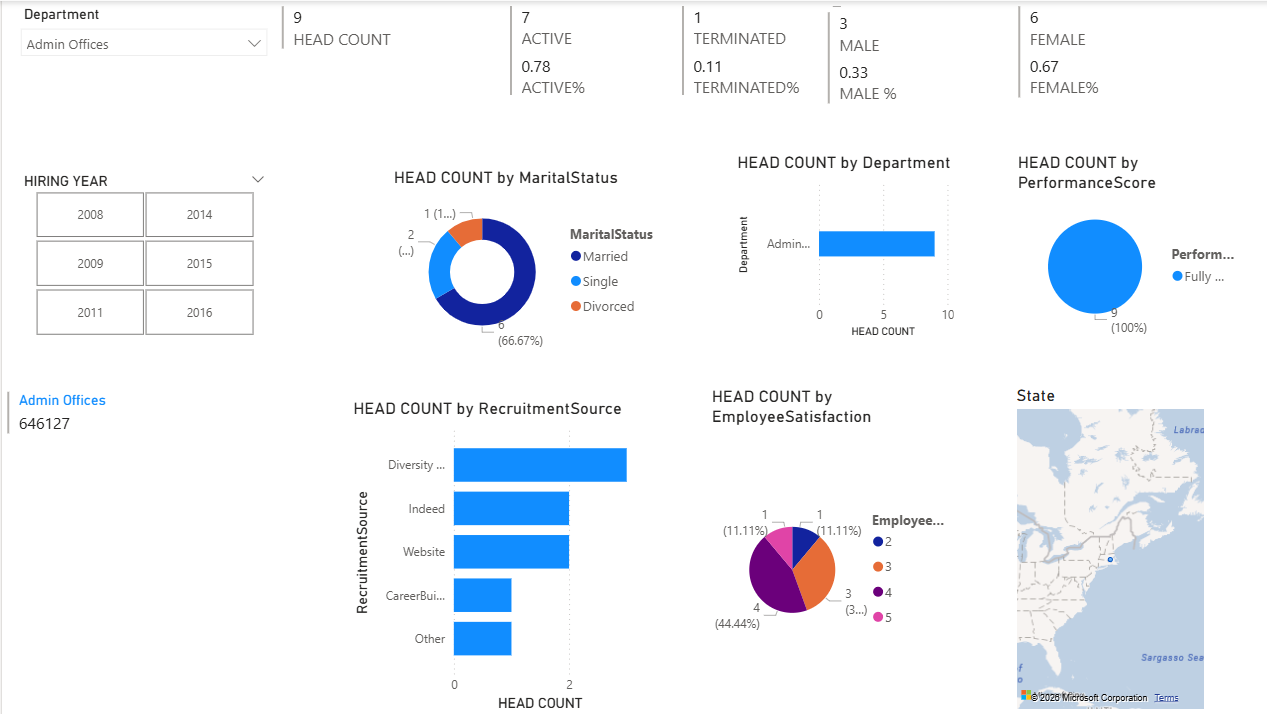

Layout of this report page (visuals, bound fields, positions):
{"tool":"powerbi","page":{"name":"Page 1","canvas":[1280,720],"ordinal":0},"visuals":[{"type":"slicer","fields":{"Values":["HR Data.Department"]},"box":[9.4,0,268.3,98.3],"z":0},{"type":"slicer","fields":{"Values":["HR Data.HIRING YEAR"]},"box":[9.4,168.2,268.3,175.7],"z":1},{"type":"multiRowCard","fields":{"Values":["HR Data.HEAD COUNT"]},"box":[277.8,0,268.3,132.3],"z":2},{"type":"multiRowCard","fields":{"Values":["HR Data.ACTIVE","HR Data.ACTIVE%"]},"box":[506.9,0,203.9,99.1],"z":3},{"type":"multiRowCard","fields":{"Values":["HR Data.TERMINATED","HR Data.TERMINATED%"]},"box":[680.8,0,170.2,99.1],"z":4},{"type":"multiRowCard","fields":{"Values":["HR Data.MALE","HR Data.MALE %"]},"box":[827.7,5.7,228.7,107.7],"z":5},{"type":"multiRowCard","fields":{"Values":["HR Data.FEMALE","HR Data.FEMALE%"]},"box":[1020.5,0,232.4,132.3],"z":6},{"type":"multiRowCard","fields":{"Values":["Sum(HR Data.Salary)","HR Data.Department"]},"box":[0,389.3,215.4,313.7],"z":7},{"type":"donutChart","fields":{"Category":["HR Data.MaritalStatus"],"Y":["HR Data.HEAD COUNT"]},"box":[391.3,168.6,278.4,190.9],"z":8},{"type":"barChart","fields":{"Category":["HR Data.Department"],"Y":["HR Data.HEAD COUNT"]},"box":[737,153.1,228.7,190.9],"z":9},{"type":"pieChart","fields":{"Category":["HR Data.PerformanceScore"],"Y":["HR Data.HEAD COUNT"]},"box":[1020,153,232,191],"z":10},{"type":"clusteredBarChart","fields":{"Category":["HR Data.RecruitmentSource"],"Y":["HR Data.HEAD COUNT"]},"box":[349.9,400.8,289.5,319.7],"z":11},{"type":"pieChart","fields":{"Y":["HR Data.HEAD COUNT"],"Series":["HR Data.EmployeeSatisfaction"]},"box":[711,389.7,254.5,330.8],"z":12},{"type":"map","fields":{"Category":["HR Data.State"]},"box":[1019.6,388.1,198.8,332.4],"z":13}]}

Visuals, with their boxes in screenshot pixels (x1, y1, x2, y2), scaled from the page's 1280x720 canvas onto the 1267x714 screenshot:
slicer - HR Data.Department: locate(9, 0, 275, 97)
slicer - HR Data.HIRING YEAR: locate(9, 167, 275, 341)
multiRowCard - HR Data.HEAD COUNT: locate(275, 0, 541, 131)
multiRowCard - HR Data.ACTIVE x HR Data.ACTIVE%: locate(502, 0, 704, 98)
multiRowCard - HR Data.TERMINATED x HR Data.TERMINATED%: locate(674, 0, 842, 98)
multiRowCard - HR Data.MALE x HR Data.MALE %: locate(819, 6, 1046, 112)
multiRowCard - HR Data.FEMALE x HR Data.FEMALE%: locate(1010, 0, 1240, 131)
multiRowCard - Sum(HR Data.Salary) x HR Data.Department: locate(0, 386, 213, 697)
donutChart - HR Data.MaritalStatus x HR Data.HEAD COUNT: locate(387, 167, 663, 357)
barChart - HR Data.Department x HR Data.HEAD COUNT: locate(730, 152, 956, 341)
pieChart - HR Data.PerformanceScore x HR Data.HEAD COUNT: locate(1010, 152, 1239, 341)
clusteredBarChart - HR Data.RecruitmentSource x HR Data.HEAD COUNT: locate(346, 397, 633, 713)
pieChart - HR Data.HEAD COUNT x HR Data.EmployeeSatisfaction: locate(704, 386, 956, 713)
map - HR Data.State: locate(1009, 385, 1206, 713)
